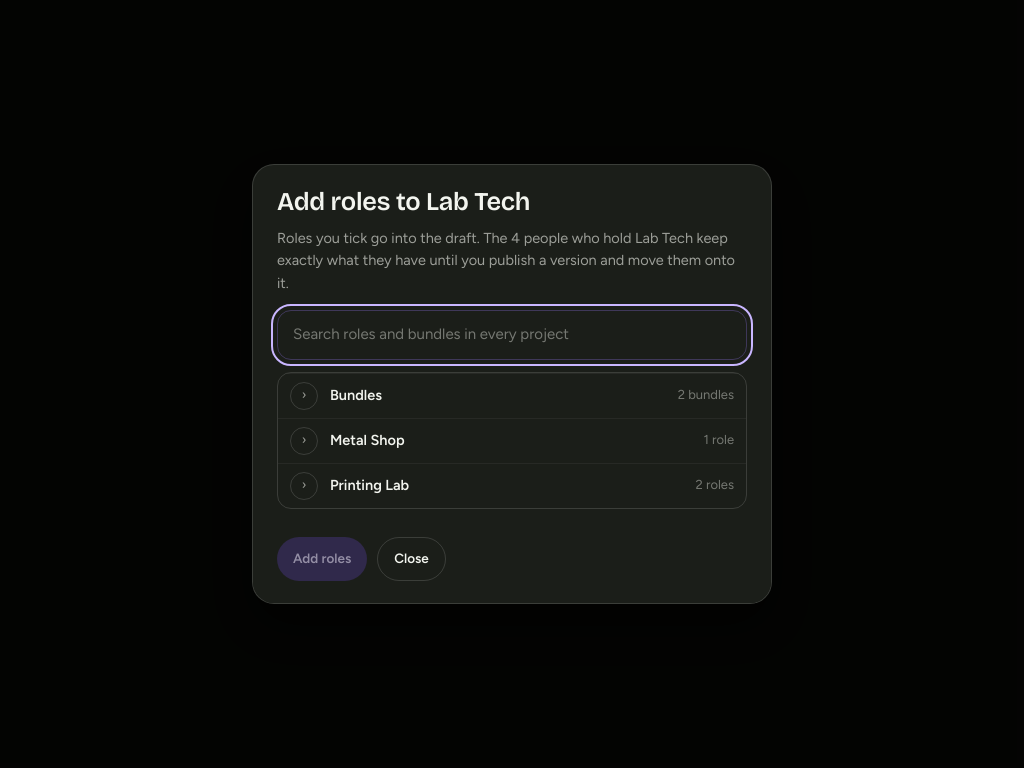
Test: AddRolesToBundle · bundles › lists the other bundles first, never the one being edited
The width and height of the screenshot is (1024, 768).
What coordinates should you click on to do the following:
click the button "› Bundles 2 bundles"
I would click on:
 (356, 395)
Its box is [278, 374, 746, 418].
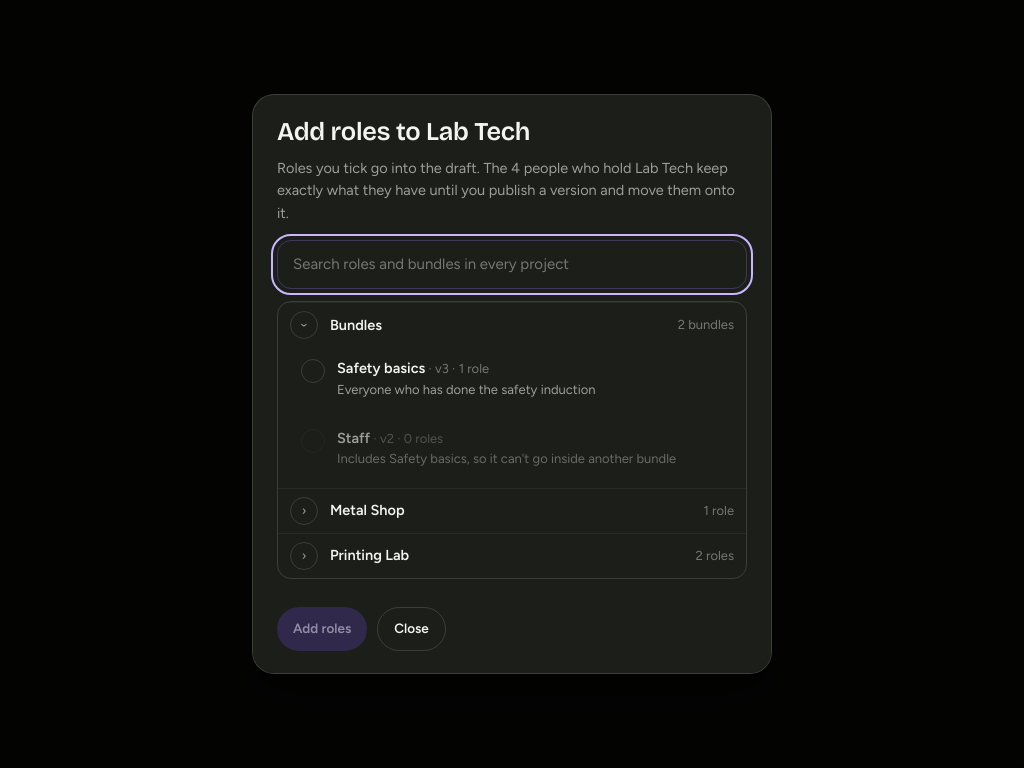
Now the checkbox named "Safety basics· v3 · 1 role" is shown, box [301, 359, 596, 397]
